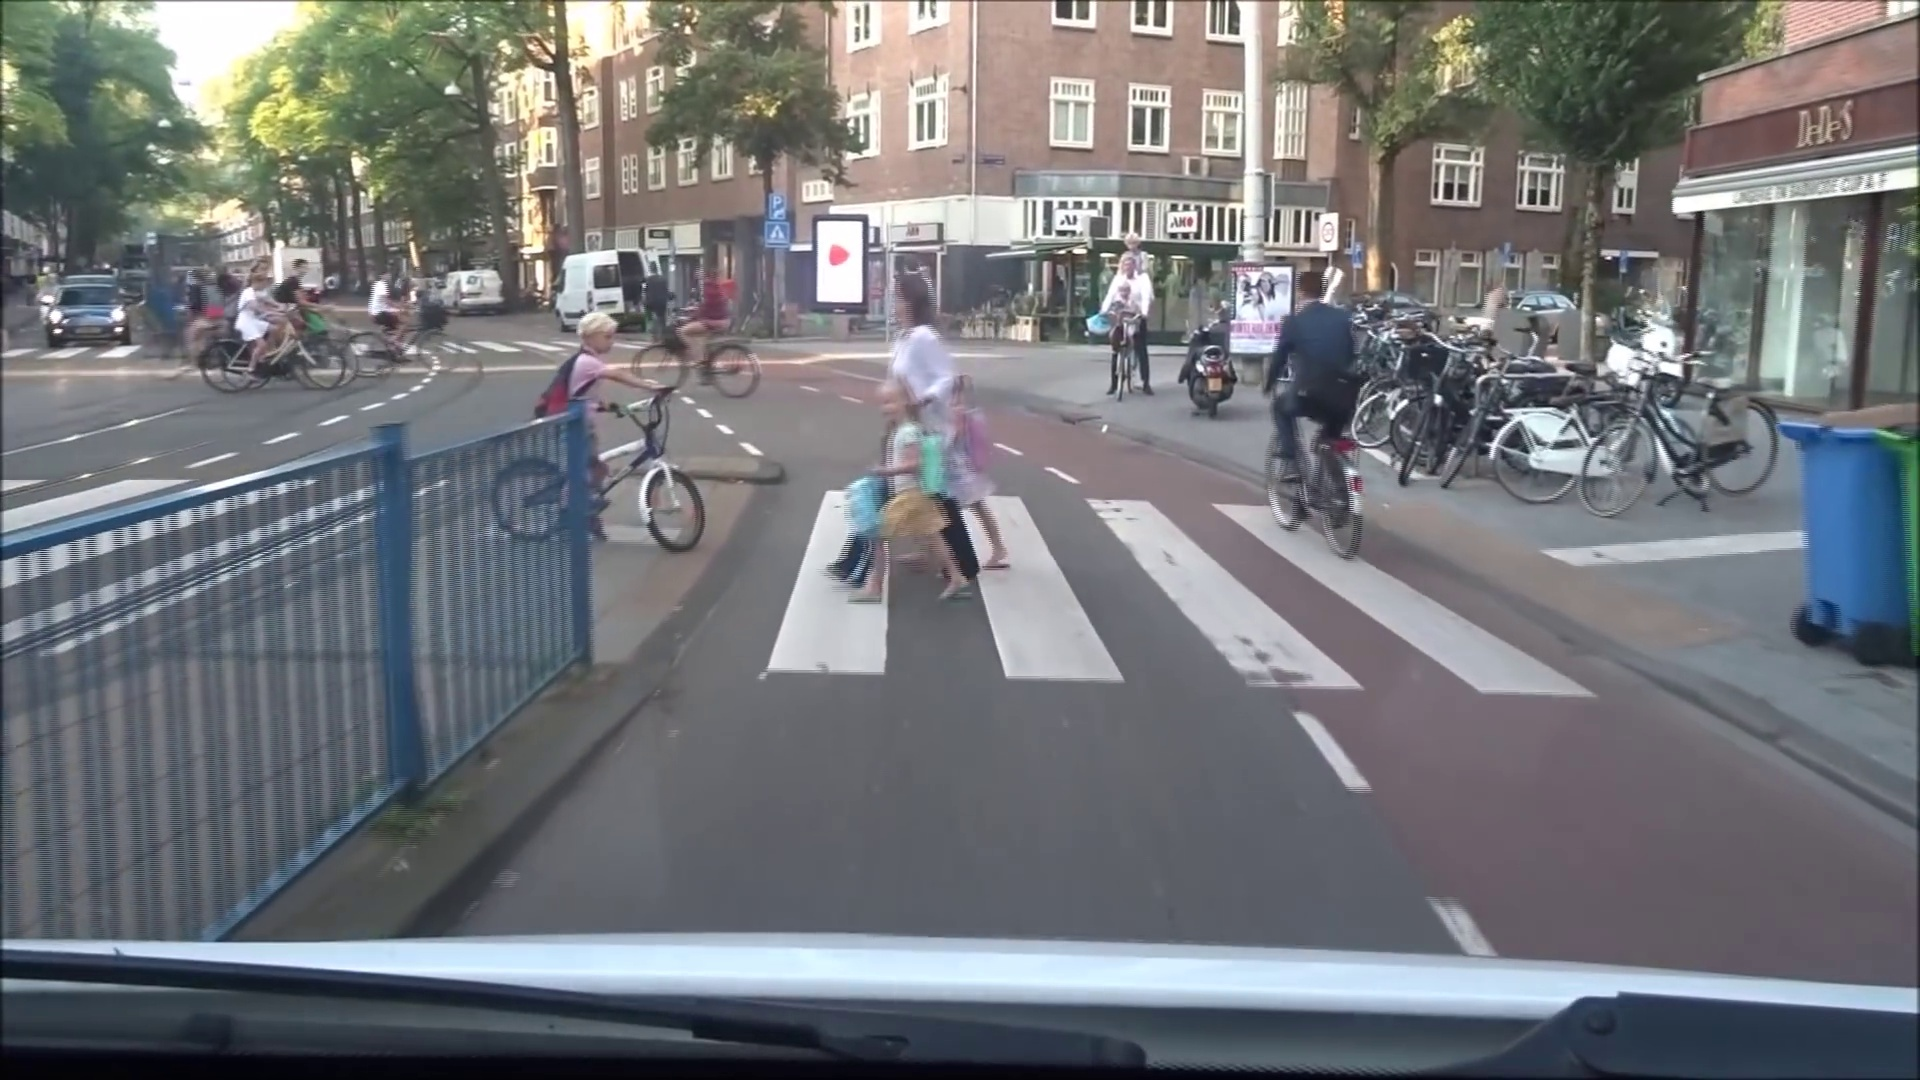cyclist_back: (1267, 262, 1394, 567)
cyclist_front: (1090, 245, 1164, 402)
cyclist_side: (502, 312, 711, 552), (639, 268, 773, 392), (219, 270, 353, 390), (354, 272, 471, 376)
